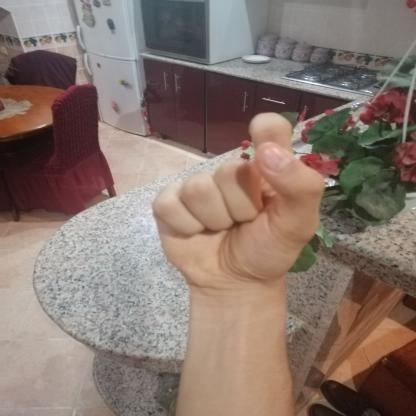FAA: (132, 103, 344, 308)
